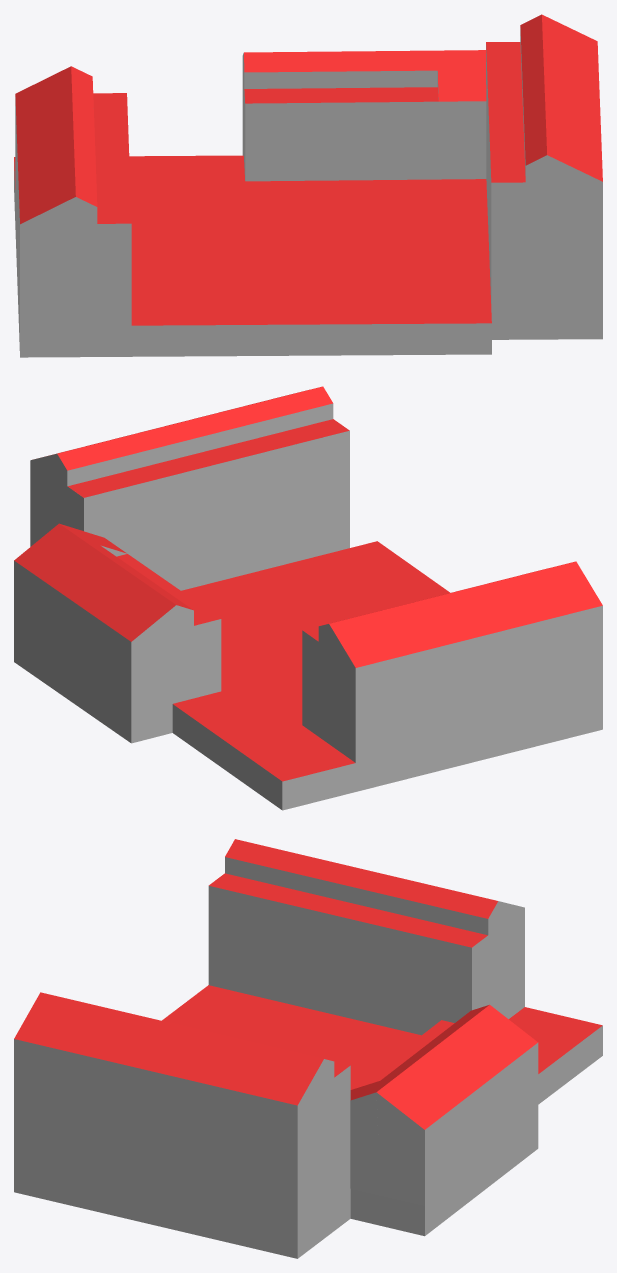
Rendered from pb-96359a08-7f36-11f0-8a7e-9c7bef4dcf4c.dae.
3 renders of one model, top to bottom at view 1: azimuth 30°, elevation 25°; view 2: azimuth 150°, elevation 25°; view 3: azimuth 270°, elevation 25°, orthographic. The views are drawn at different scales.
Bounding box in the file's own units: 80.14 × 70.33 × 23.7.
